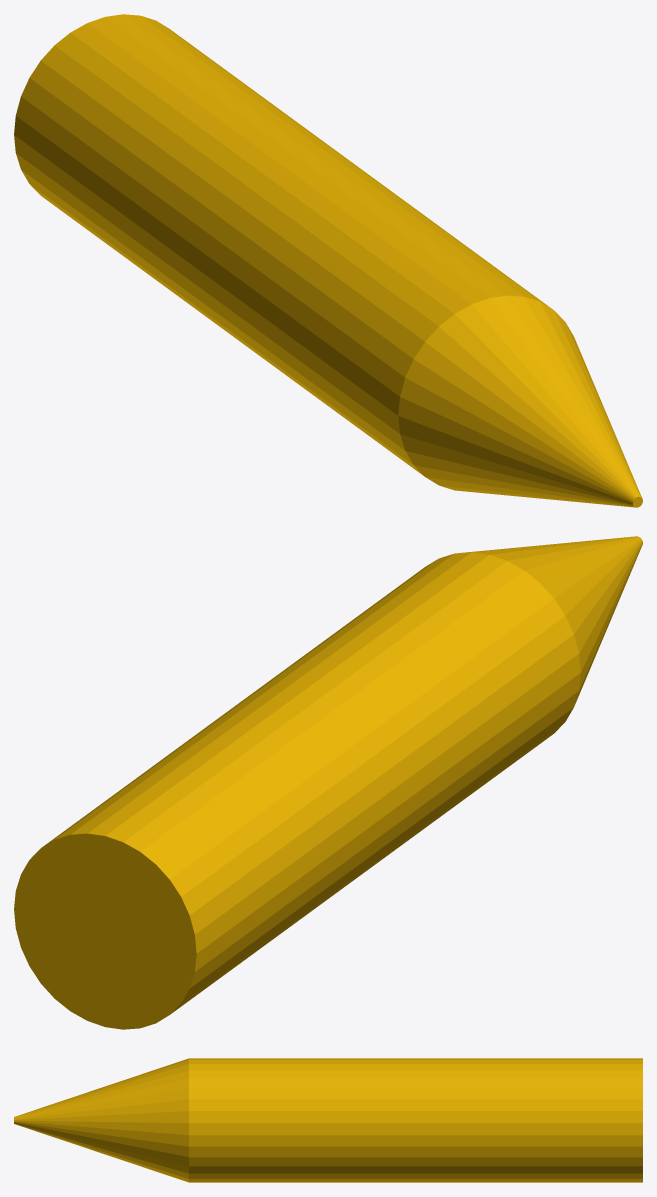
Rendered from TurretBullet.fbx.
The picture shows the model from 3 angles, top to bottom: view 1: azimuth 30°, elevation 25°; view 2: azimuth 150°, elevation 25°; view 3: azimuth 270°, elevation 25°; orthographic projection. The views are drawn at different scales.
Parts seen in each view (by area): view 1: Cylinder; view 2: Cylinder; view 3: Cylinder.
Boxes of the visible parts, bbox=[...] form: Cylinder: bbox=[14, 14, 642, 507]; Cylinder: bbox=[14, 536, 642, 1029]; Cylinder: bbox=[14, 1058, 642, 1182].
Bounding box in the file's own units: 18.63 × 18.63 × 94.12.
